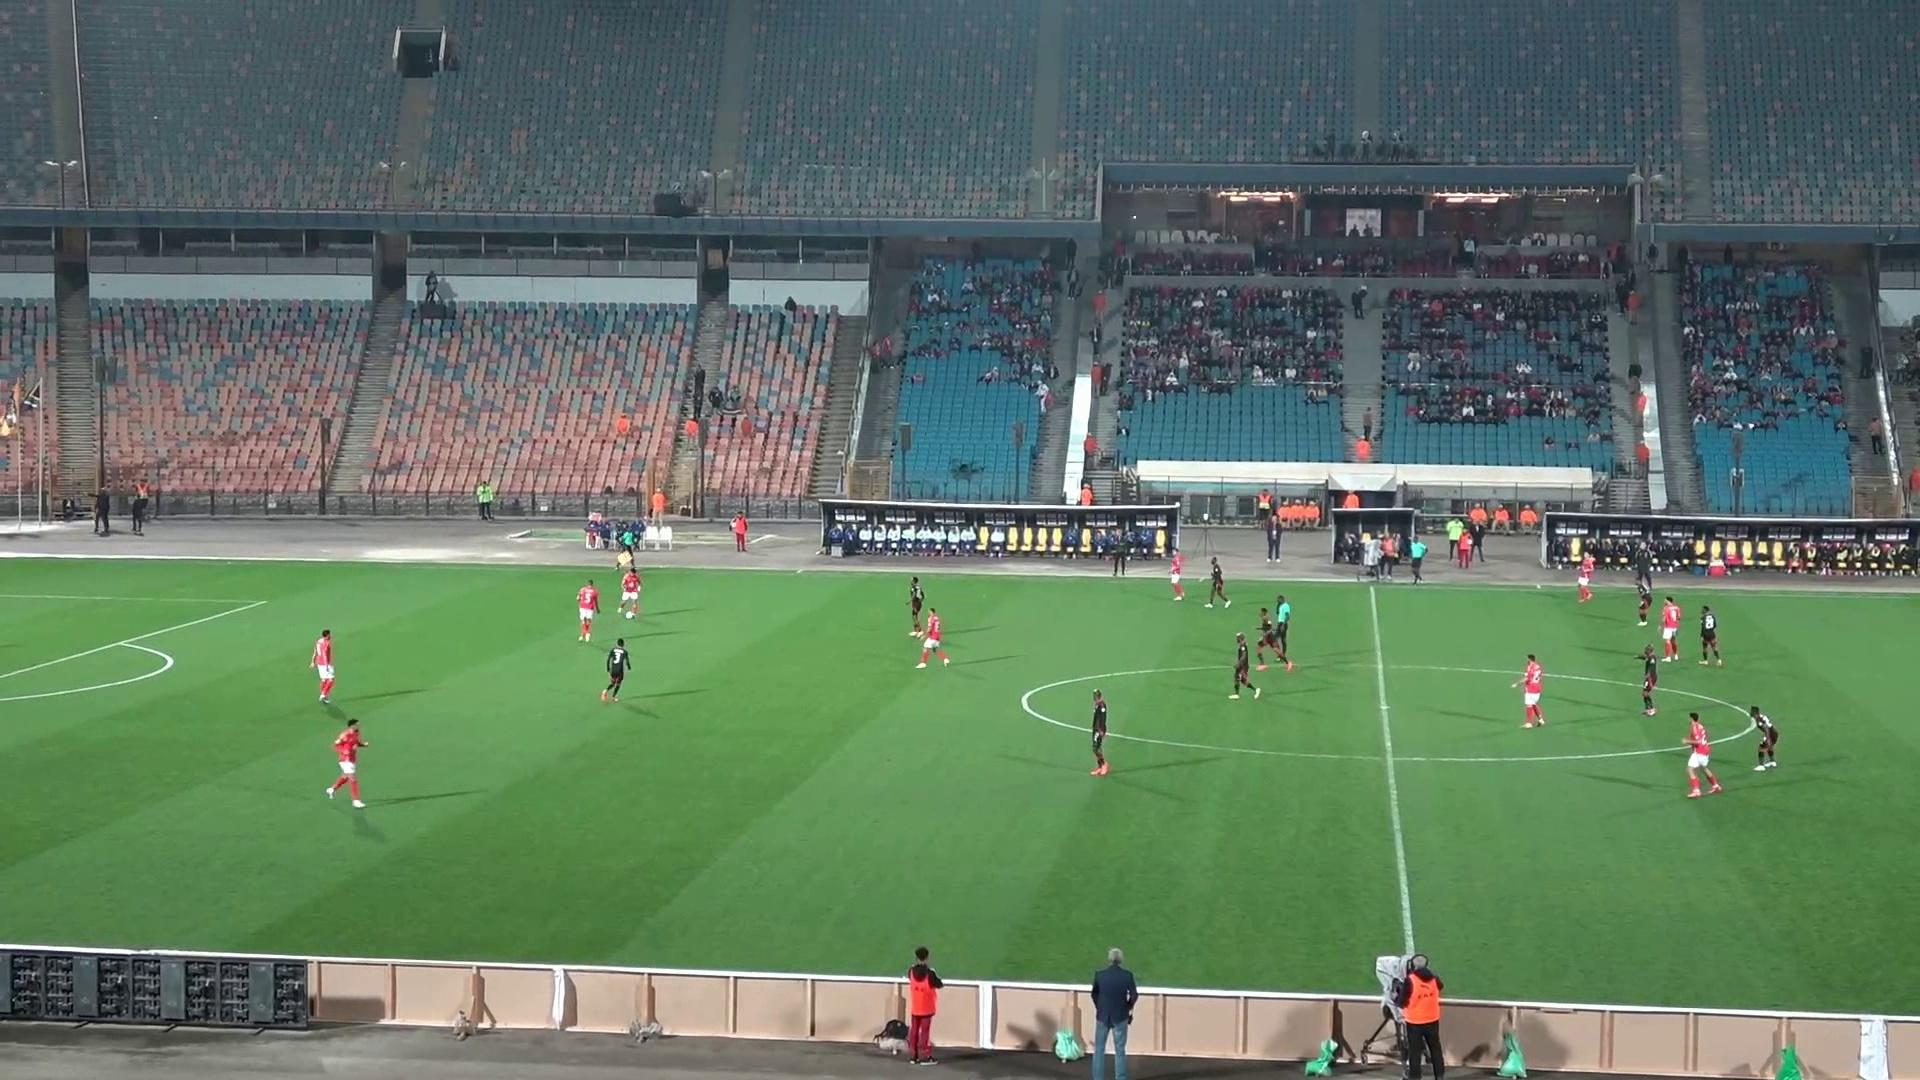Ball: (622, 603, 638, 620)
Refree: (1269, 595, 1295, 670)
Team1: (326, 719, 367, 808), (1684, 713, 1721, 796), (1515, 654, 1544, 728), (916, 609, 949, 669), (311, 630, 335, 704), (1662, 595, 1683, 661), (578, 579, 600, 641), (618, 564, 641, 618), (1404, 529, 1427, 583), (1576, 553, 1594, 603), (1170, 549, 1185, 601)
Team2: (1255, 595, 1294, 671), (1229, 632, 1259, 698), (600, 638, 630, 702), (1749, 705, 1778, 769), (1091, 688, 1109, 775), (1639, 645, 1659, 716), (1698, 604, 1721, 665), (1205, 558, 1230, 607), (909, 576, 926, 636), (1636, 571, 1654, 625)
